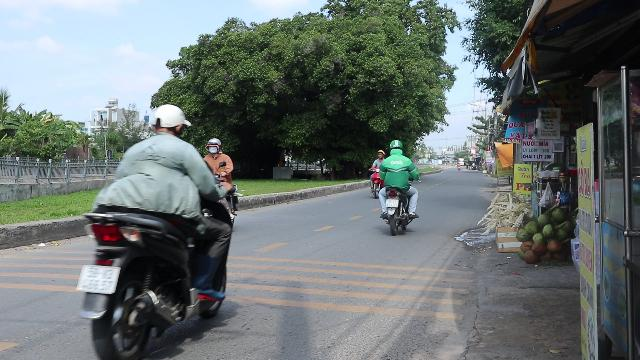helmet: (148, 104, 192, 140), (206, 138, 222, 154), (388, 140, 404, 154)
licenseplate: (76, 266, 120, 294), (386, 199, 398, 207)
motorcyclist: (75, 100, 238, 356), (376, 139, 419, 234)
